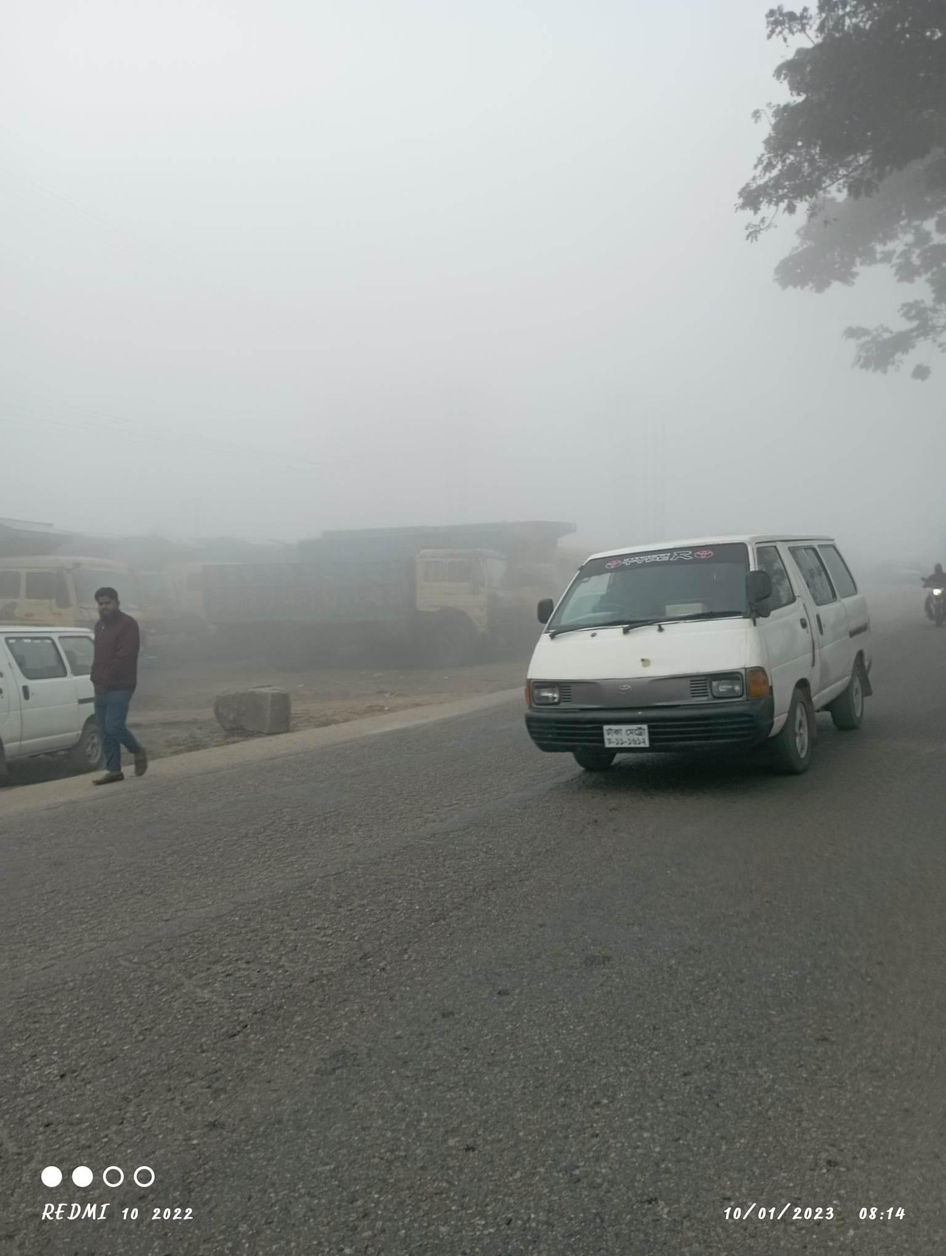Bike: (923, 555, 946, 632)
Car: (519, 521, 889, 779), (6, 613, 153, 768)
Truck: (187, 533, 514, 680)
